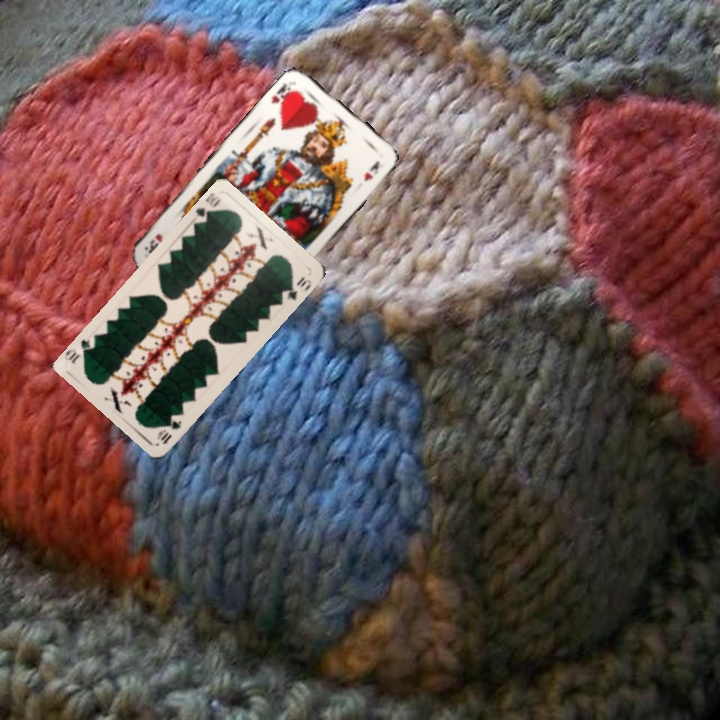G10: (191, 188, 223, 223), (153, 414, 184, 447)
HK: (267, 77, 298, 111)
